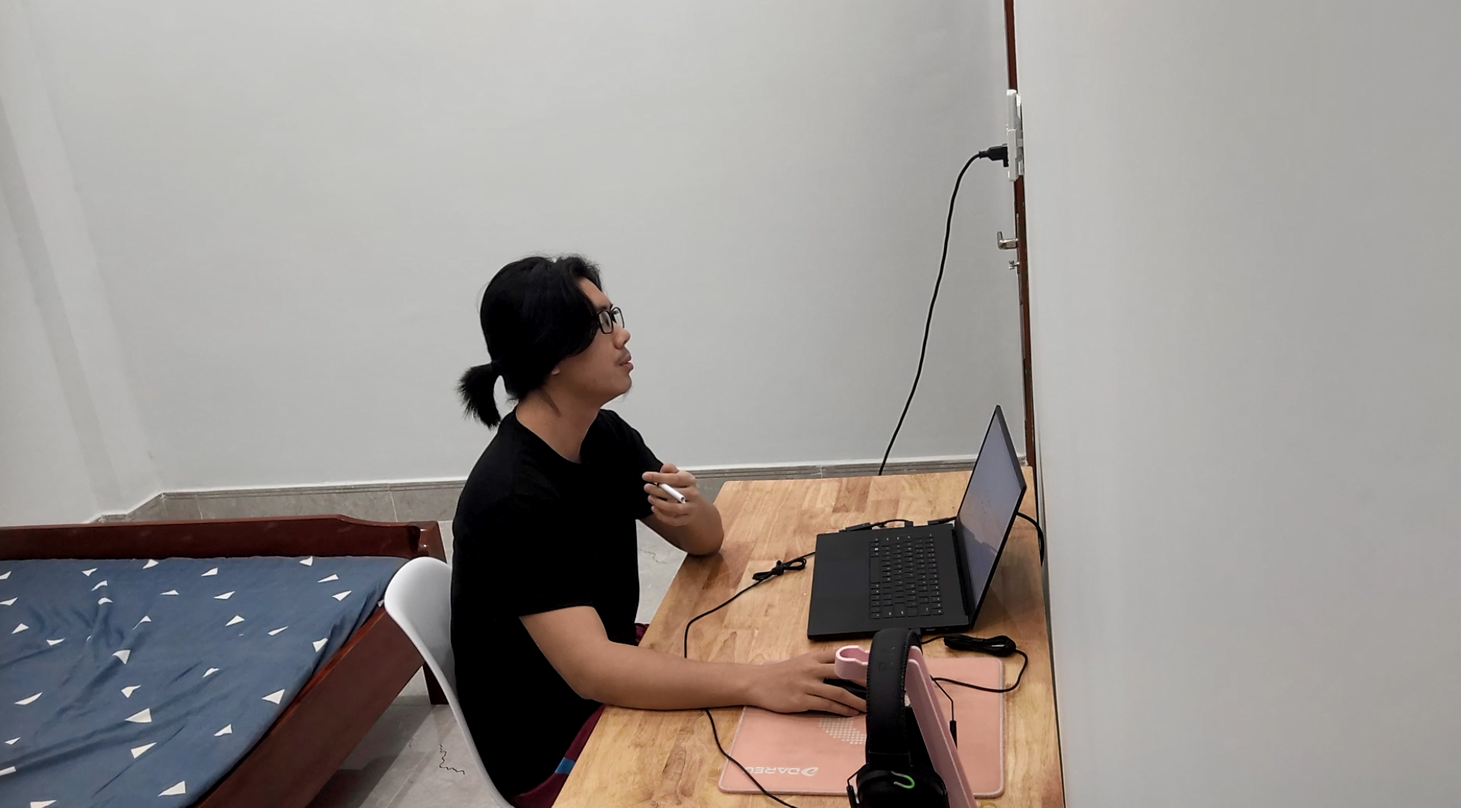cigarette: (656, 477, 693, 509)
person: (432, 231, 726, 780)
